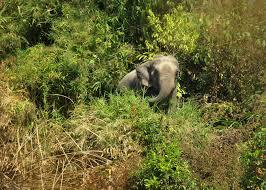elephant: (119, 55, 178, 112)
